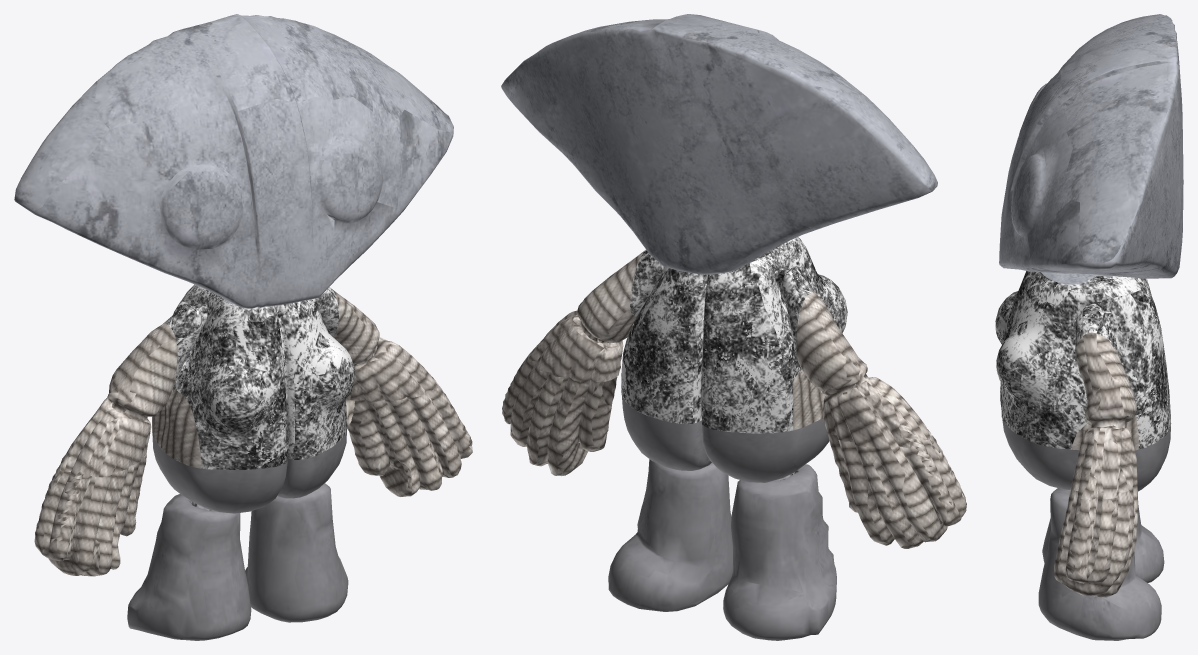
The model's file is 13-fan-split--stylized_3d_character2.glb.
3 views of the same model, side by side, from view 1: azimuth 30°, elevation 25°; view 2: azimuth 150°, elevation 25°; view 3: azimuth 270°, elevation 25° (orthographic). The views are drawn at different scales.
Visible parts, largest first — view 1: head_mesh, arms_mesh, feet_mesh, body_mesh; view 2: head_mesh, feet_mesh, arms_mesh, body_mesh; view 3: head_mesh, body_mesh, arms_mesh, feet_mesh.
Part boxes in pixels (<box>): head_mesh: <box>14,14,453,308</box>; arms_mesh: <box>34,289,472,576</box>; feet_mesh: <box>127,419,348,640</box>; body_mesh: <box>163,284,354,469</box>; head_mesh: <box>501,14,937,274</box>; feet_mesh: <box>608,387,836,640</box>; arms_mesh: <box>502,250,966,548</box>; body_mesh: <box>621,237,847,433</box>; head_mesh: <box>999,14,1183,284</box>; body_mesh: <box>995,271,1170,449</box>; arms_mesh: <box>1054,332,1138,597</box>; feet_mesh: <box>1000,402,1171,640</box>.
Size of the model in its own units: 2.38 by 3 by 0.9205.
4 materials, 4 textured.
